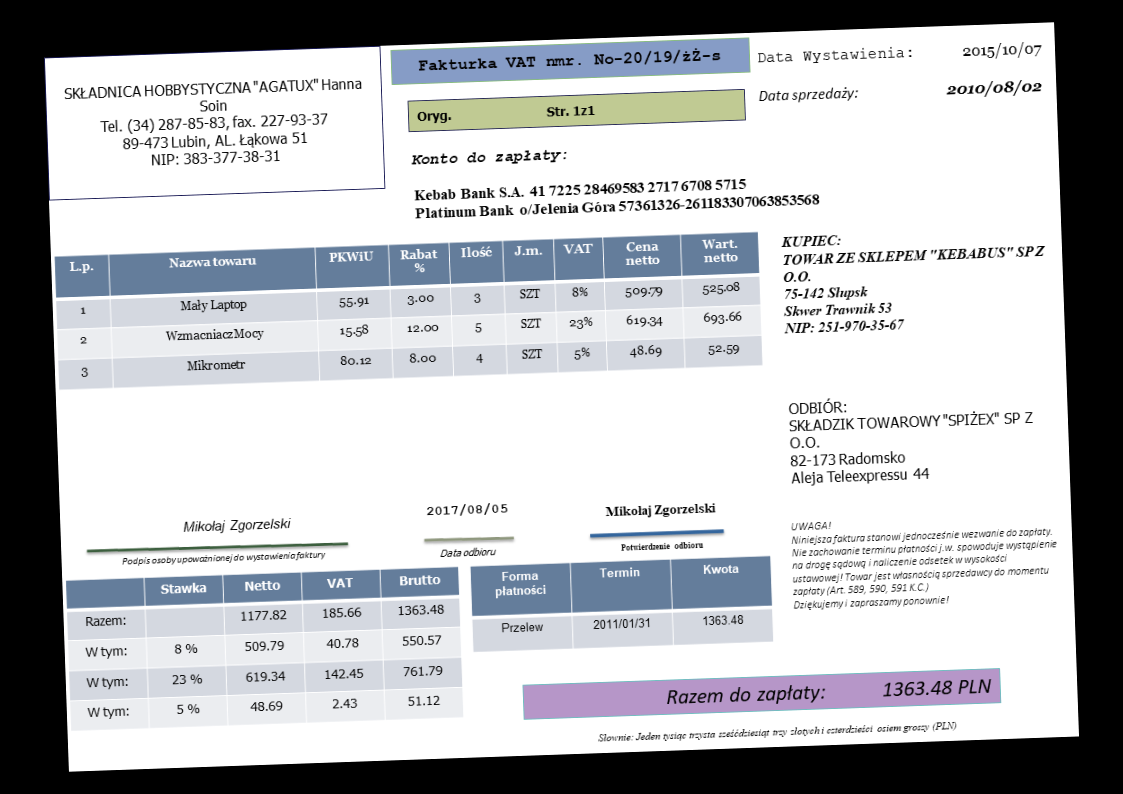Table: (53, 231, 764, 392), (63, 565, 466, 731), (468, 554, 775, 655)
TextBox: (778, 222, 1055, 339), (61, 73, 367, 175), (788, 511, 1060, 613), (785, 388, 1039, 491), (410, 172, 823, 222), (663, 674, 994, 710), (595, 717, 960, 746), (415, 45, 724, 75), (414, 100, 597, 127), (119, 547, 329, 567), (755, 43, 914, 69), (407, 145, 571, 170), (601, 499, 718, 522), (181, 514, 296, 536), (944, 77, 1044, 102), (756, 84, 860, 107), (422, 498, 509, 522), (959, 39, 1044, 62), (617, 538, 705, 554), (437, 544, 499, 561)
